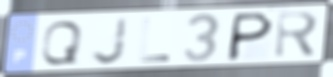3: (182, 11, 224, 64)
J: (89, 16, 131, 67)
L: (138, 17, 172, 64)
P: (223, 10, 276, 63)
Q: (39, 19, 86, 66)
R: (272, 9, 321, 61)
